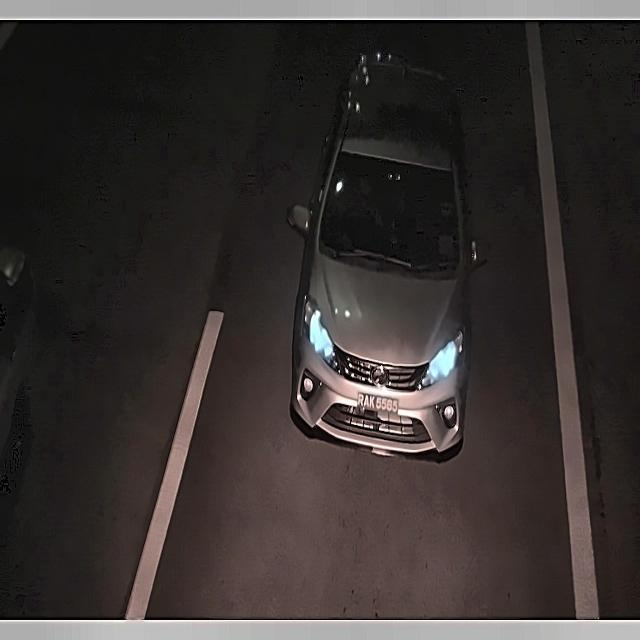car: (354, 388, 404, 420)
